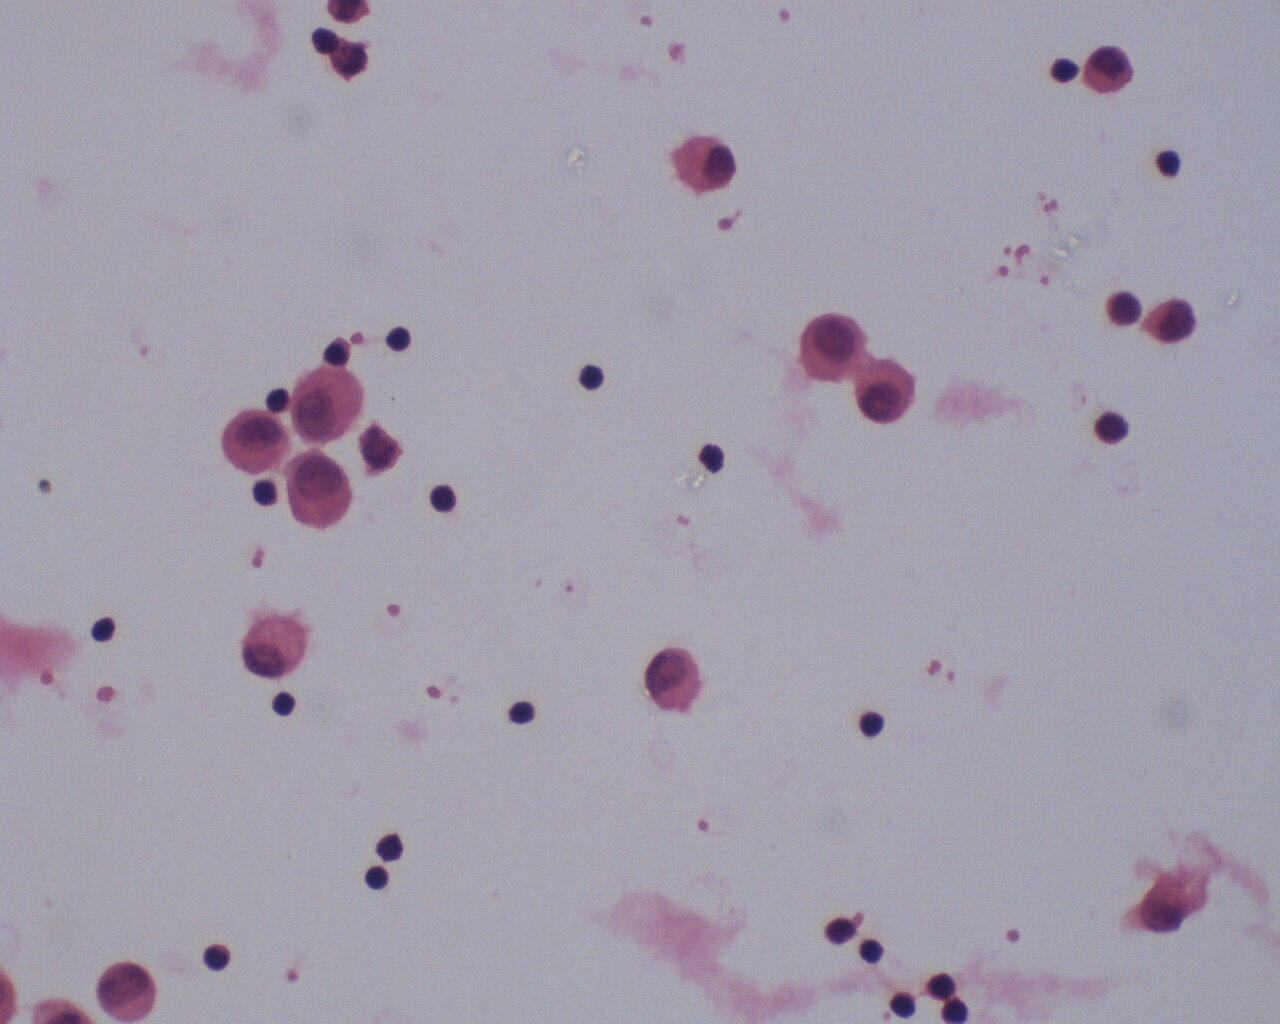ab: (639, 641, 708, 718), (96, 960, 156, 1024), (1141, 292, 1197, 350)
histo: (235, 604, 316, 680)
lymph: (1089, 406, 1135, 452), (858, 708, 895, 747), (359, 863, 396, 903), (856, 931, 889, 970), (1048, 50, 1081, 89), (505, 696, 541, 729), (573, 359, 608, 393), (1150, 149, 1183, 185), (267, 686, 301, 720), (429, 483, 458, 519)
meso: (285, 363, 367, 449), (213, 402, 290, 478), (282, 450, 354, 531), (793, 309, 867, 385), (851, 352, 920, 428), (667, 127, 739, 195), (1080, 45, 1141, 102)
